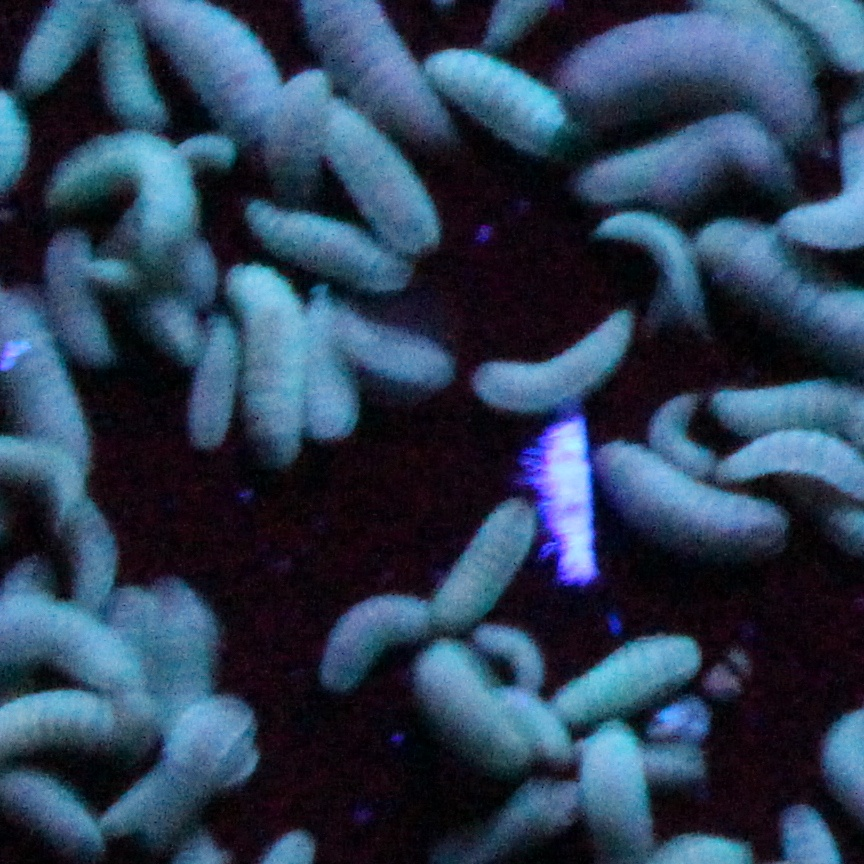larve: (553, 20, 813, 130), (589, 432, 785, 558), (466, 284, 638, 420), (108, 694, 260, 846), (298, 93, 439, 255), (218, 263, 320, 470), (239, 190, 419, 298), (578, 126, 802, 208), (43, 134, 200, 250), (427, 42, 578, 153), (400, 644, 530, 766), (427, 491, 539, 631), (556, 629, 710, 725), (310, 581, 434, 693), (181, 318, 239, 457)
